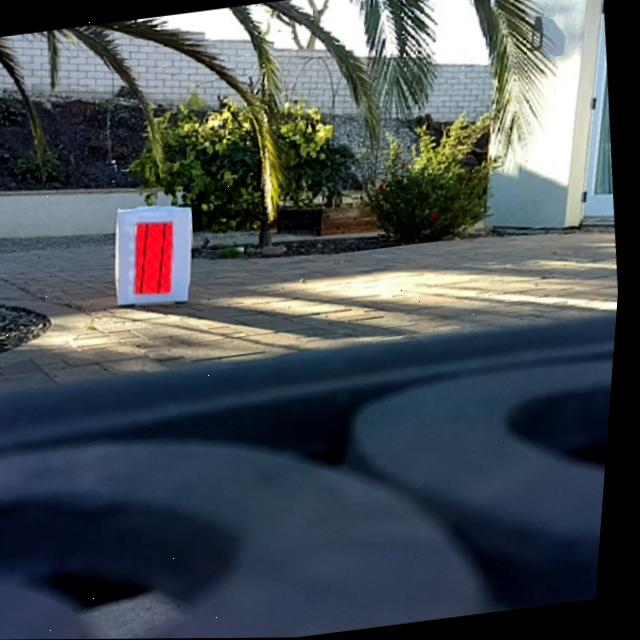led: (134, 216, 183, 295)
